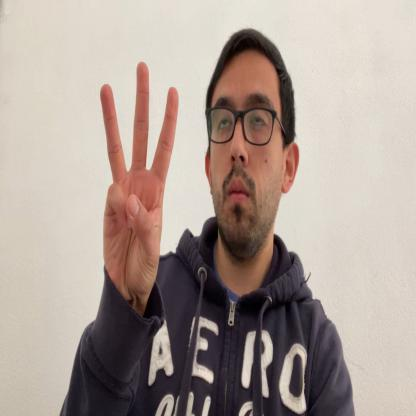W: (100, 61, 178, 310)
